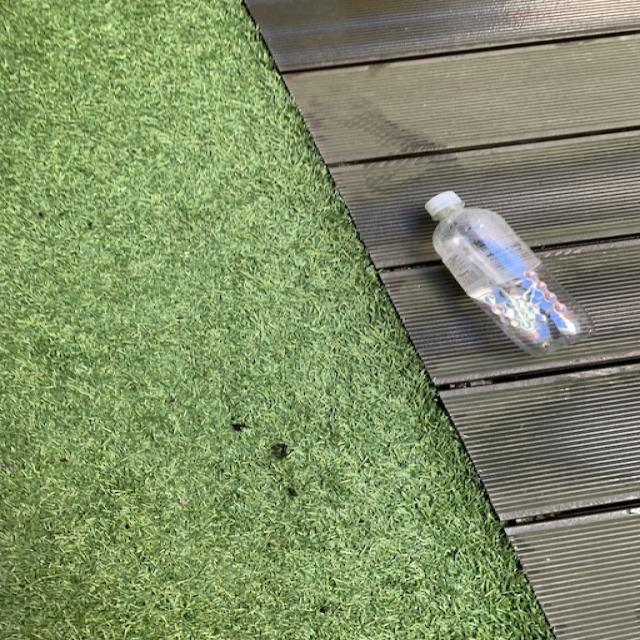Waste: (429, 191, 596, 356)
